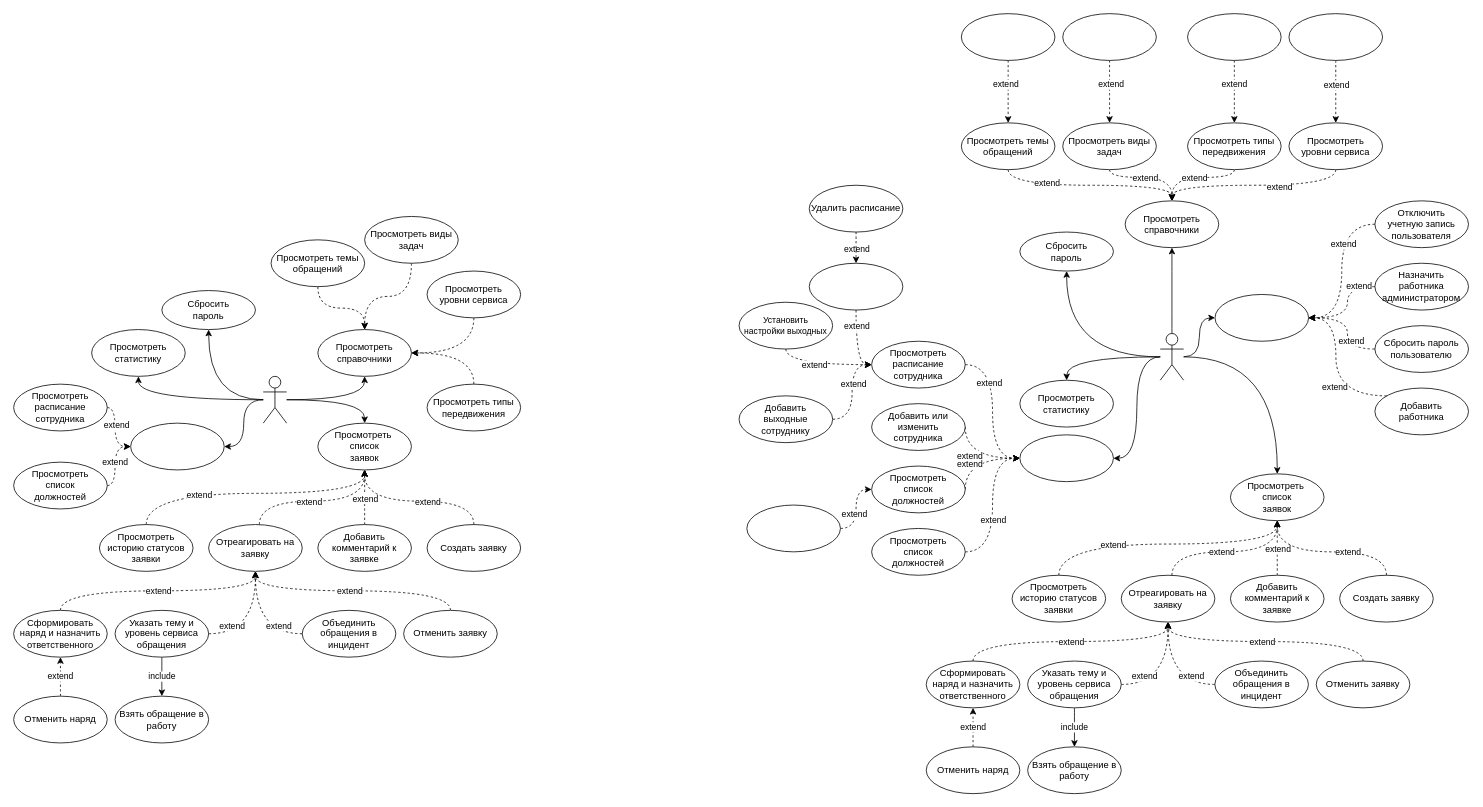
This 1483x807 diagram has some shape labels left out. Here are the shapes that lost their labels. From the top down, the box of each, then its label:
(961, 13, 1055, 60): Установить или изменить тему обращений
(1062, 13, 1156, 60): Установить или изменить вид задачи
(1187, 13, 1281, 60): Установить или изменить типы передвижения
(1288, 13, 1383, 60): Установить или изменить уровни сервиса
(808, 262, 903, 310): Установить расписание
(1214, 294, 1309, 341): Просмотреть список диспетчеров
(1159, 333, 1184, 380): Администратор
(262, 376, 287, 423): Диспетчер
(130, 422, 224, 470): Просмотреть список сотрудников
(1019, 434, 1113, 482): Просмотреть список выездных сотрудников
(746, 504, 840, 552): Добавить или отредактровать должность
